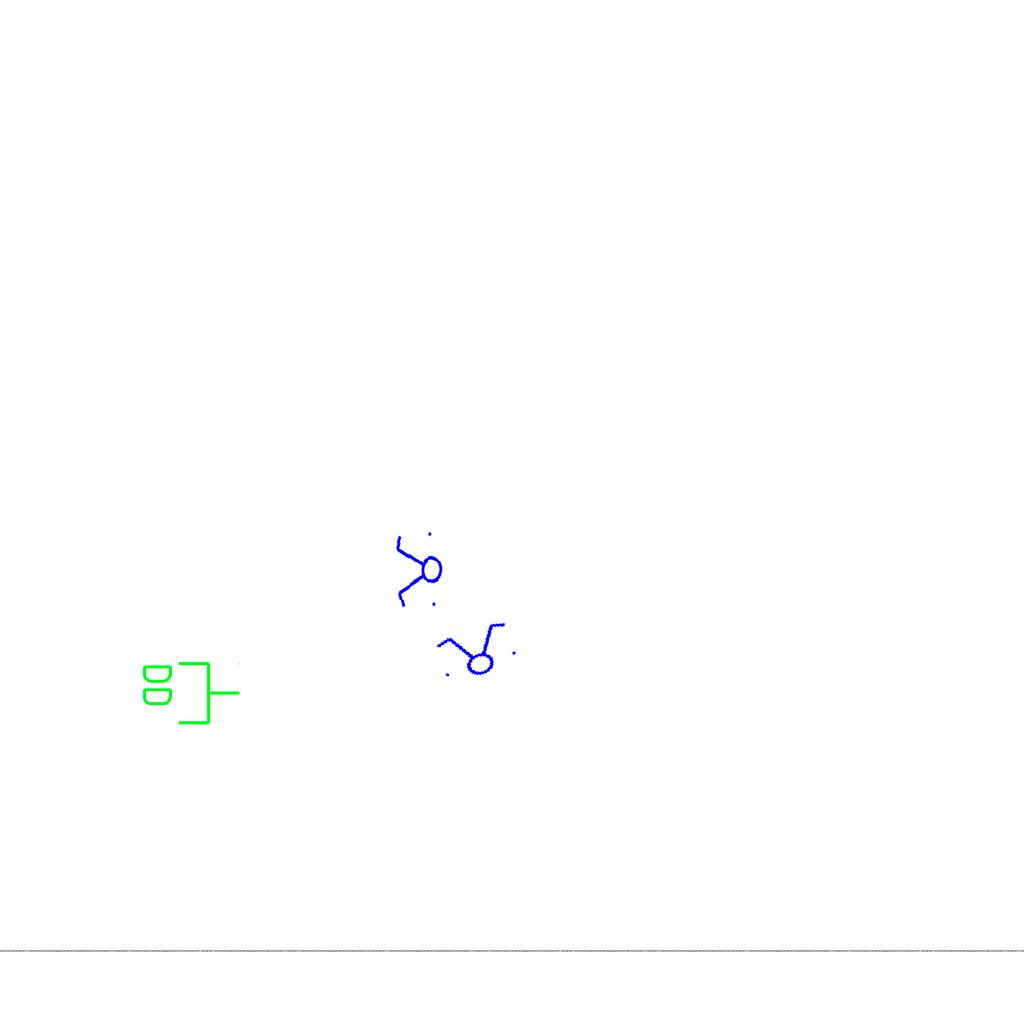Datenanschluss_zweifach: (139, 658, 242, 727)
Serienschalter: (428, 616, 524, 688), (392, 527, 446, 615)
